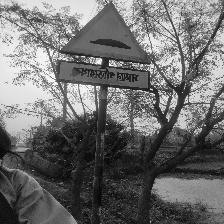Speed-breaker: (58, 1, 151, 92)
